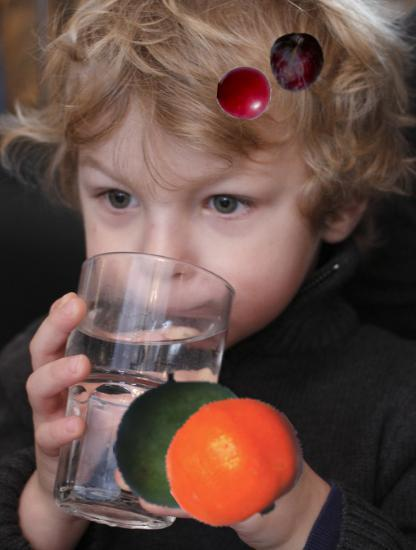Cherry: (217, 66, 272, 121)
Clementine: (164, 392, 304, 532)
Mango: (113, 366, 261, 514)
Plum: (267, 32, 328, 93)
